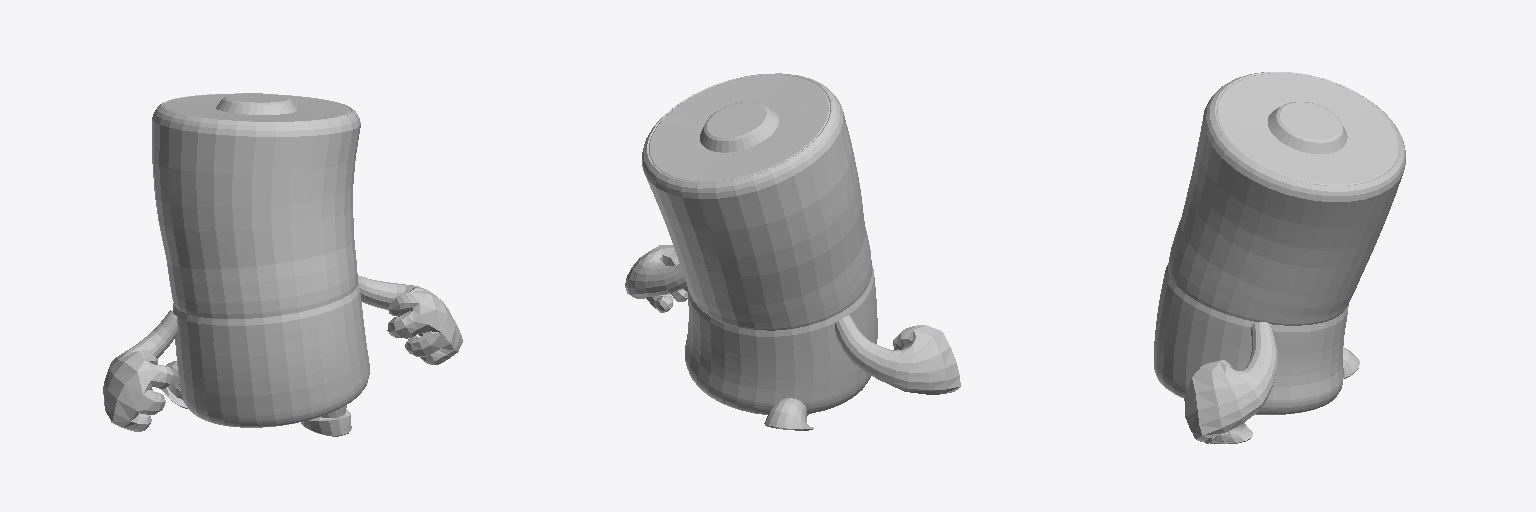
Rendered from boi-1.obj.
3 renders of one model, left to right at view 1: azimuth 30°, elevation 25°; view 2: azimuth 150°, elevation 25°; view 3: azimuth 270°, elevation 25°, orthographic.
Parts seen in each view (by area): view 1: meshes_0; view 2: meshes_0; view 3: meshes_0.
Part boxes in pixels (left/top/right/bottom): meshes_0: left=103, top=93, right=462, bottom=436; meshes_0: left=625, top=73, right=960, bottom=430; meshes_0: left=1154, top=72, right=1405, bottom=443.
Size of the model in its own units: 122 by 110 by 79.43.